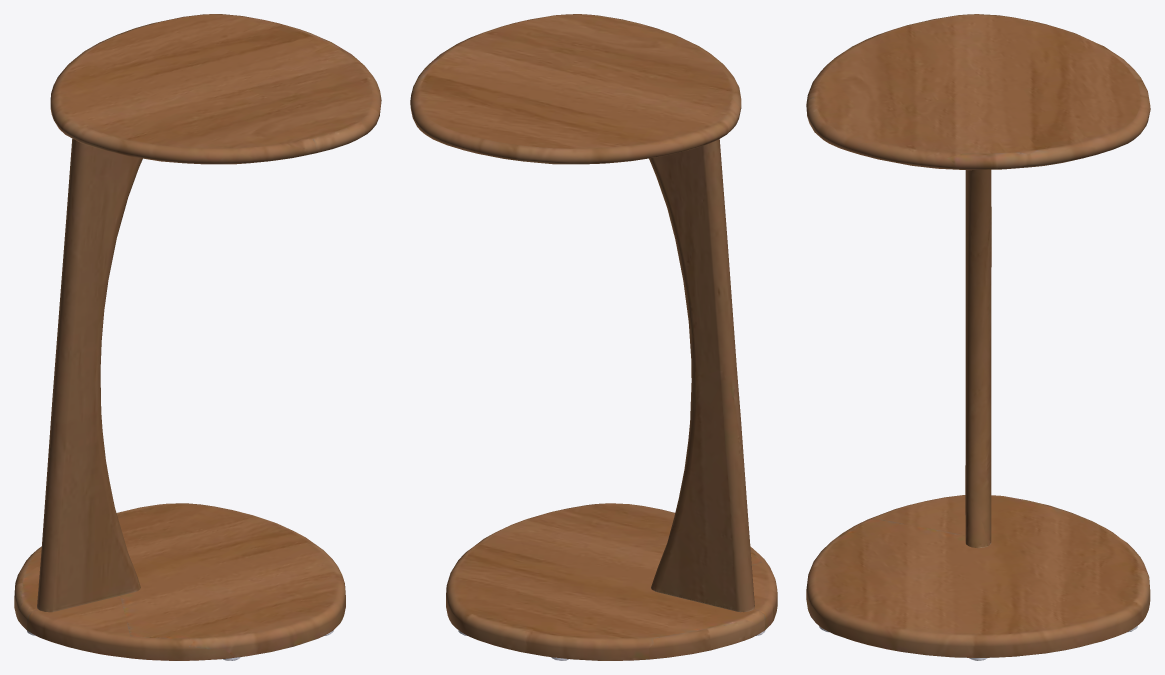
3 renders of one model, left to right at view 1: azimuth 30°, elevation 25°; view 2: azimuth 150°, elevation 25°; view 3: azimuth 270°, elevation 25°, orthographic. The views are drawn at different scales.
Visible parts, largest first — view 1: ASY_ART_00627983_S01_NV01; view 2: ASY_ART_00627983_S01_NV01; view 3: ASY_ART_00627983_S01_NV01.
Boxes of the visible parts, <box> form: ASY_ART_00627983_S01_NV01: <box>14,14,381,660</box>; ASY_ART_00627983_S01_NV01: <box>410,14,777,660</box>; ASY_ART_00627983_S01_NV01: <box>806,14,1150,660</box>.
Size of the model in its own units: 0.4541 by 0.6696 by 0.4001.
Materials: 1 (1 with a texture image).
